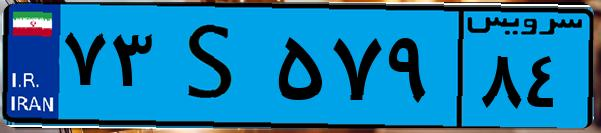3: (110, 28, 158, 98)
4: (525, 38, 570, 115)
5: (270, 28, 330, 110)
7: (330, 28, 385, 110), (57, 26, 110, 100)
8: (475, 38, 525, 113)
9: (385, 28, 445, 110)
S: (158, 12, 270, 120)
